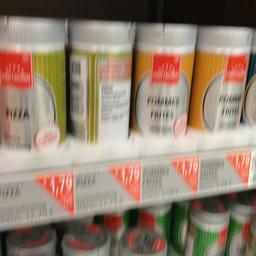spices: (0, 14, 67, 151), (67, 17, 136, 145), (132, 20, 198, 138), (188, 23, 252, 134)
